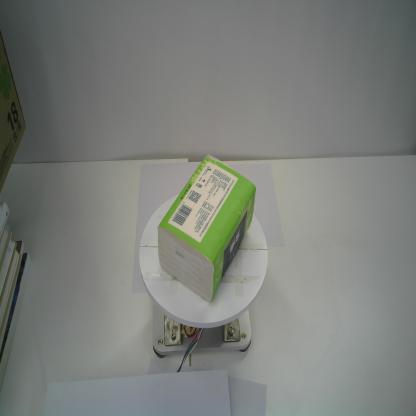Tissue: (156, 153, 259, 304)
